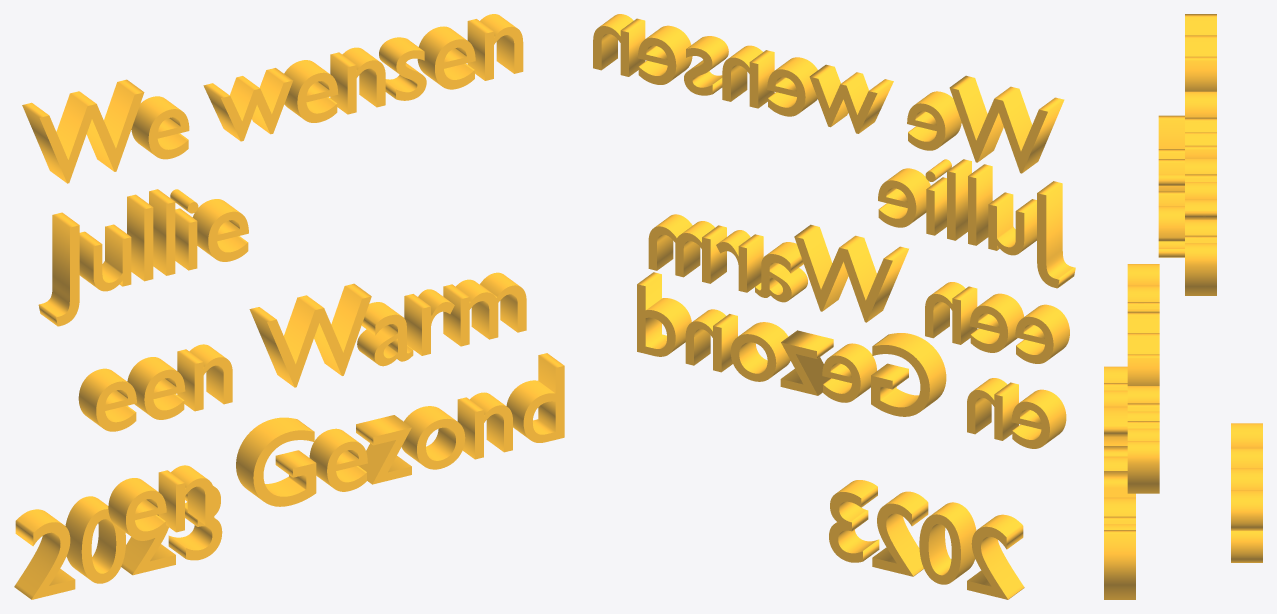
The model's file is wewensen.glb.
3 renders of one model, left to right at view 1: azimuth 30°, elevation 25°; view 2: azimuth 150°, elevation 25°; view 3: azimuth 270°, elevation 25°, orthographic. The views are drawn at different scales.
Visible parts, largest first — view 1: Text.006, Text.007, Text.005, Text.008, Text.009; view 2: Text.006, Text.007, Text.005, Text.009, Text.008; view 3: Text.006, Text.005, Text.007, Text.009, Text.008.
Part boxes in pixels (bbox=[...]): Text.006: bbox=[22, 14, 523, 183]; Text.007: bbox=[108, 353, 564, 540]; Text.005: bbox=[78, 272, 526, 431]; Text.008: bbox=[38, 189, 248, 326]; Text.009: bbox=[14, 486, 222, 599]; Text.006: bbox=[593, 14, 1064, 173]; Text.007: bbox=[637, 272, 1066, 448]; Text.005: bbox=[648, 214, 1069, 363]; Text.009: bbox=[829, 480, 1024, 599]; Text.008: bbox=[878, 159, 1075, 288]; Text.006: bbox=[1185, 14, 1216, 295]; Text.005: bbox=[1127, 264, 1159, 493]; Text.007: bbox=[1104, 366, 1135, 599]; Text.009: bbox=[1231, 423, 1262, 562]; Text.008: bbox=[1158, 115, 1184, 257].
Size of the model in its own units: 4.8 by 4.8 by 1.49.
